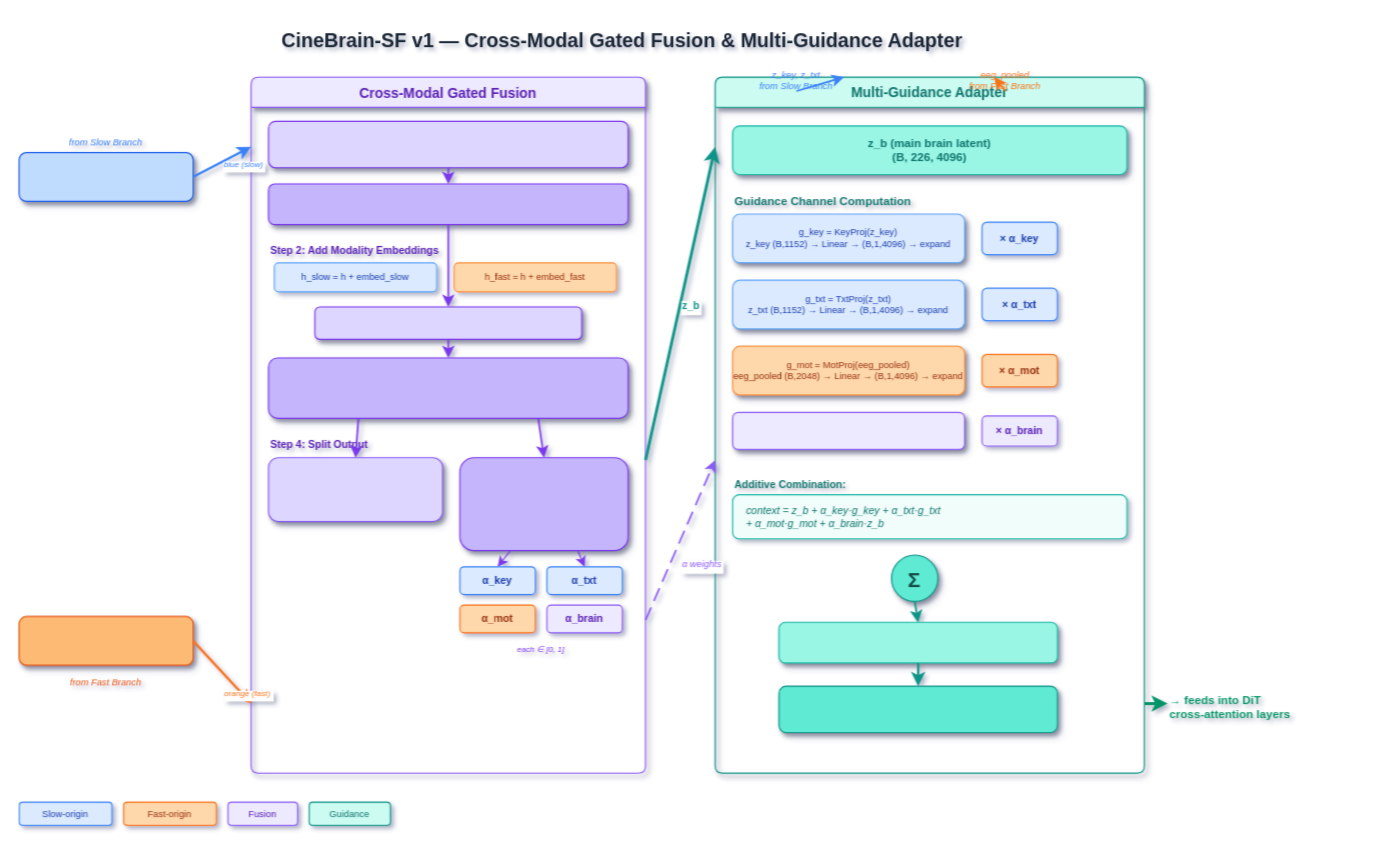
The diagram is 1395 pixels wide and 844 high, and some of its shapes have lost their labels. Each missing label, with the centre of its shape:
"Concat → (B, 452, 2048)" belongs at pixel 449 324.
"context (B, 226, 4096)" belongs at pixel 918 710.
"fast_feat (B, 226, 2048)" belongs at pixel 106 642.
"First 226 tokens → Output Proj → z_b (B, 226, 4096)" belongs at pixel 356 491.
"g_brain = z_b (self-residual)" belongs at pixel 849 432.
"LayerNorm + Linear" belongs at pixel 918 644.
"Linear Projection → (B, 226, 2048) hidden" belongs at pixel 449 205.
"Mean pool (452) → Linear(2048) → GELU → Linear(4) → Sigmoid" belongs at pixel 544 505.
"slow_feat (B, 226, 2048)" belongs at pixel 106 178.
"Step 1: Concat slow_feat ⊕ fast_feat → (B, 226, 4096)" belongs at pixel 449 145.
"Step 3: 4-layer Fusion Transformer (full attention over 452 tokens)" belongs at pixel 449 389.
